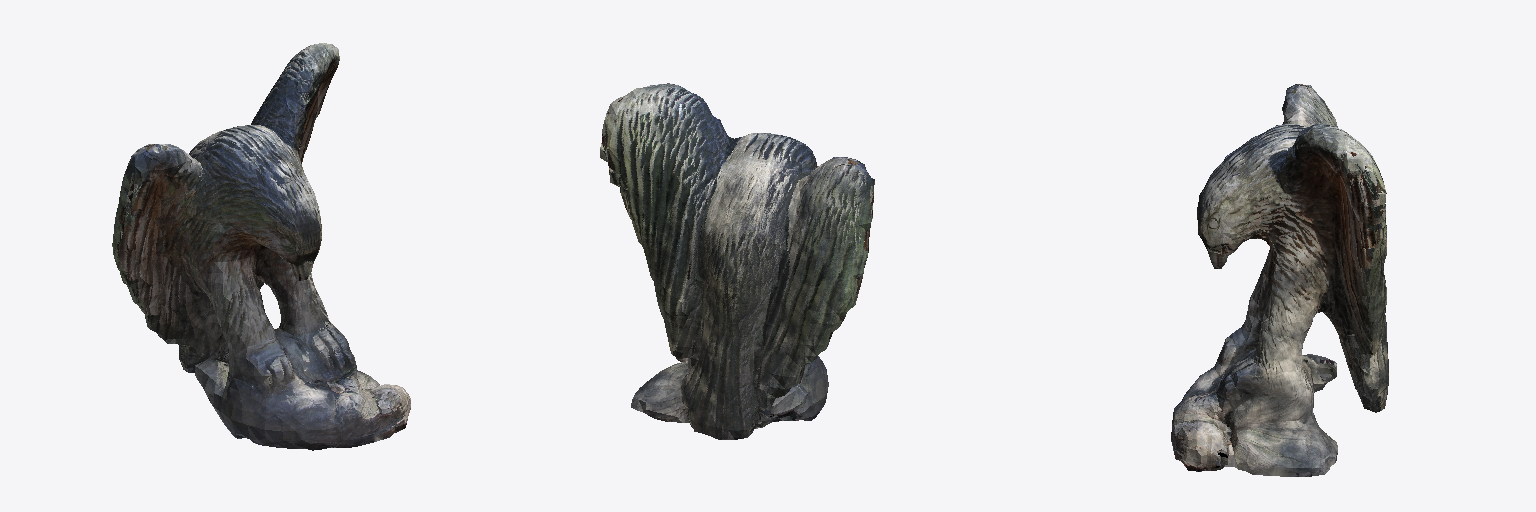
3 renders of one model, left to right at view 1: azimuth 30°, elevation 25°; view 2: azimuth 150°, elevation 25°; view 3: azimuth 270°, elevation 25°, orthographic.
Visible parts, largest first — view 1: Bake_Circle.001; view 2: Bake_Circle.001; view 3: Bake_Circle.001.
Part boxes in pixels (left/top/right/bottom): Bake_Circle.001: left=112, top=43, right=410, bottom=450; Bake_Circle.001: left=600, top=83, right=874, bottom=439; Bake_Circle.001: left=1171, top=84, right=1388, bottom=476.
Bounding box in the file's own units: 0.9518 × 1.27 × 0.7524.
Materials: 1 (1 with a texture image).